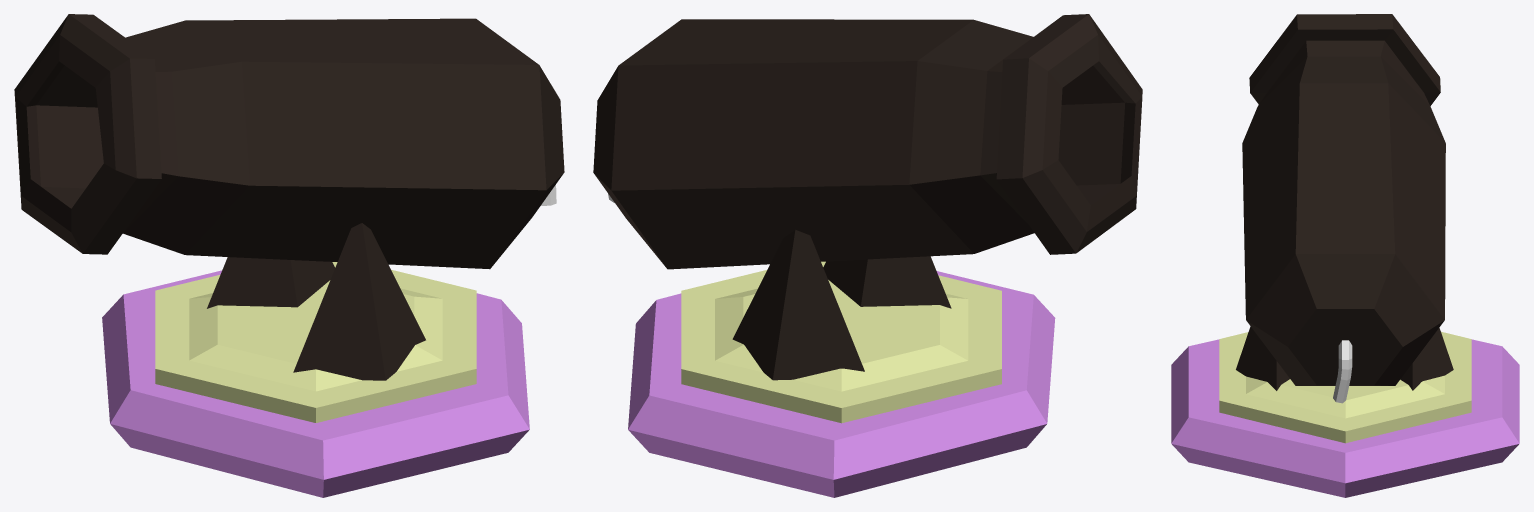
The model's file is Cannon.fbx.
3 renders of one model, left to right at view 1: azimuth 30°, elevation 25°; view 2: azimuth 150°, elevation 25°; view 3: azimuth 270°, elevation 25°, orthographic. The views are drawn at different scales.
Parts seen in each view (by area): view 1: Cylinder, Base; view 2: Cylinder, Base; view 3: Cylinder, Base.
Boxes of the visible parts, x1,y1,x2,y2 form: Cylinder: [14, 14, 564, 380]; Base: [102, 262, 529, 497]; Cylinder: [593, 14, 1142, 380]; Base: [628, 261, 1055, 497]; Cylinder: [1236, 14, 1453, 403]; Base: [1171, 331, 1519, 497].
Bounding box in the file's own units: 400 × 316 × 303.
